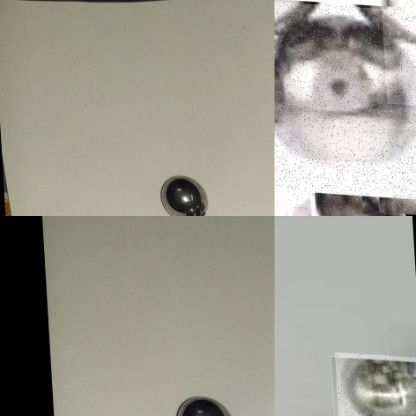ironball: (274, 0, 415, 192), (280, 153, 381, 215), (332, 348, 415, 415), (375, 0, 415, 102), (383, 122, 415, 215), (158, 170, 209, 217), (168, 392, 231, 414)
